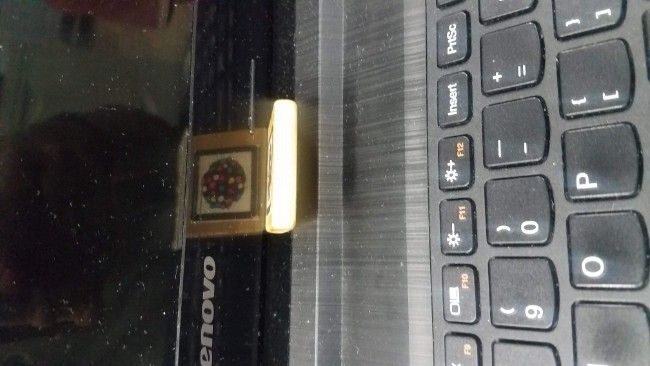cookie: (177, 136, 266, 237)
